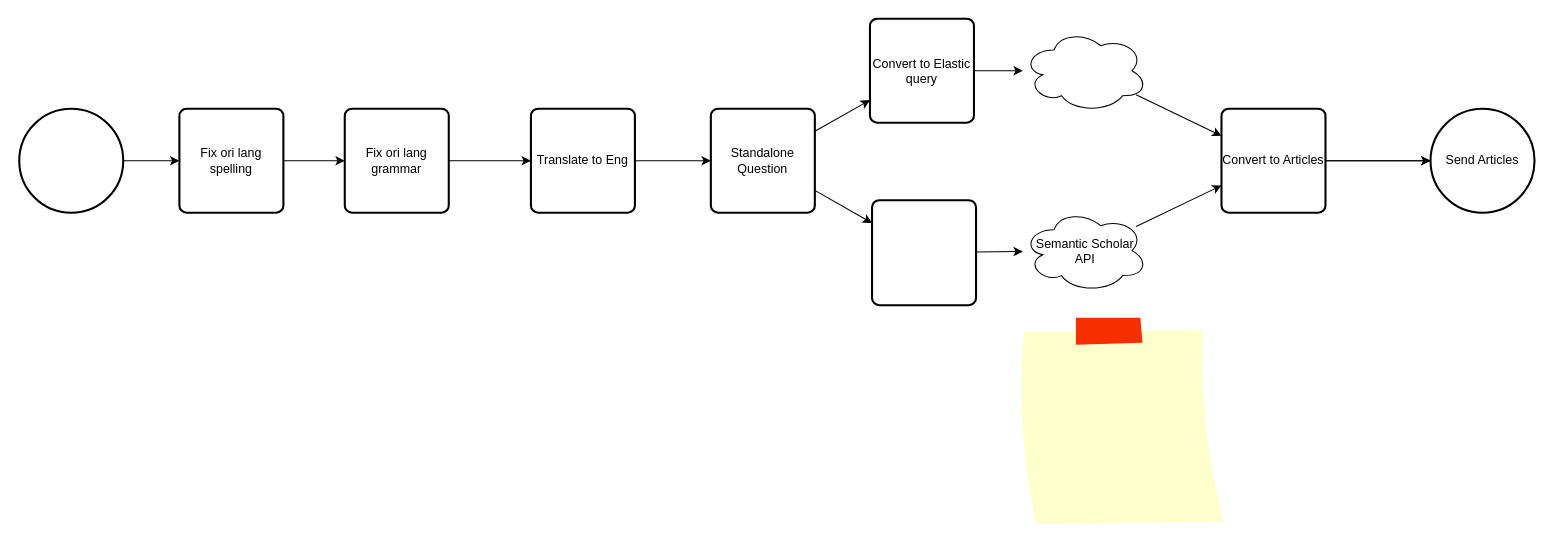
The diagram is 1553 pixels wide and 544 high, and some of its shapes have lost their labels. Here are the shapes that lost their labels. From the top down, the box of each, then its label:
(1022, 28, 1148, 112): DOAJ API
(18, 107, 124, 213): User Query
(870, 199, 977, 306): Convert to Semantic Scholar query
(1017, 317, 1226, 526): Reason to convert to Eng. bcs we use international OA papers
